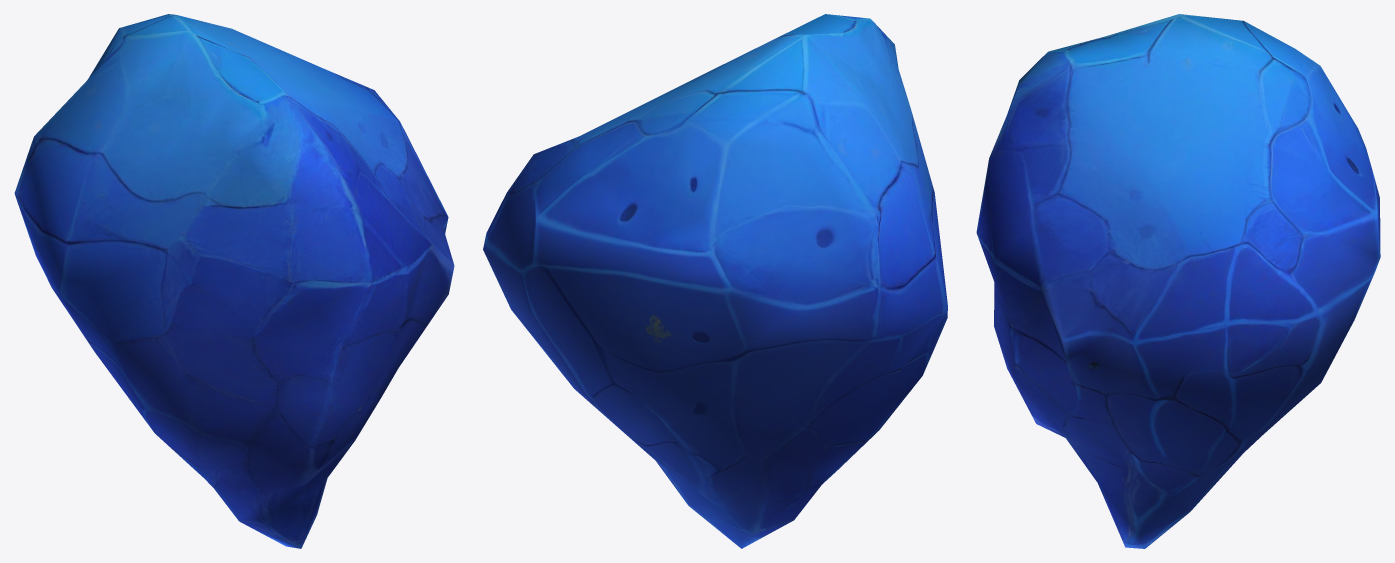
Rendered from Ethereal_Gemstone_0727015124_texture.fbx.
3 renders of one model, left to right at view 1: azimuth 30°, elevation 25°; view 2: azimuth 150°, elevation 25°; view 3: azimuth 270°, elevation 25°, orthographic. The views are drawn at different scales.
Parts seen in each view (by area): view 1: Mesh1; view 2: Mesh1; view 3: Mesh1.
Boxes of the visible parts, box(x1,y1,x2,y2) form: Mesh1: box(14, 14, 454, 548); Mesh1: box(483, 14, 947, 548); Mesh1: box(976, 14, 1380, 548).
Size of the model in its own units: 127 by 167 by 123.
1 material, 1 textured.
